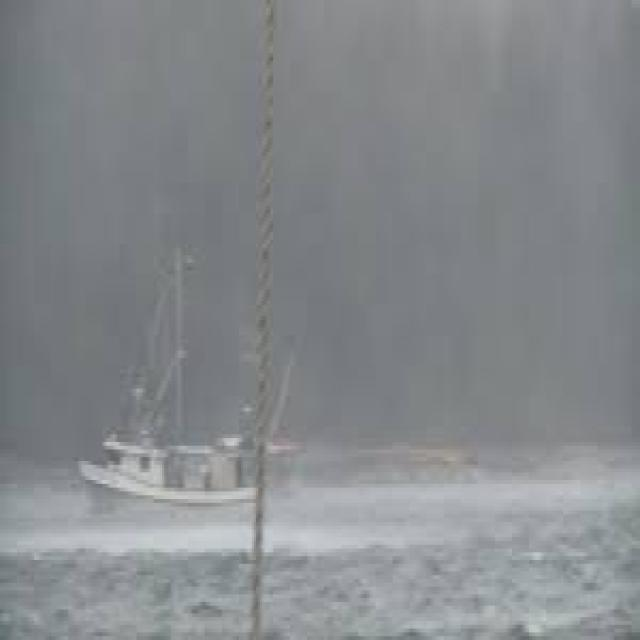fishing boat: (75, 206, 288, 527)
